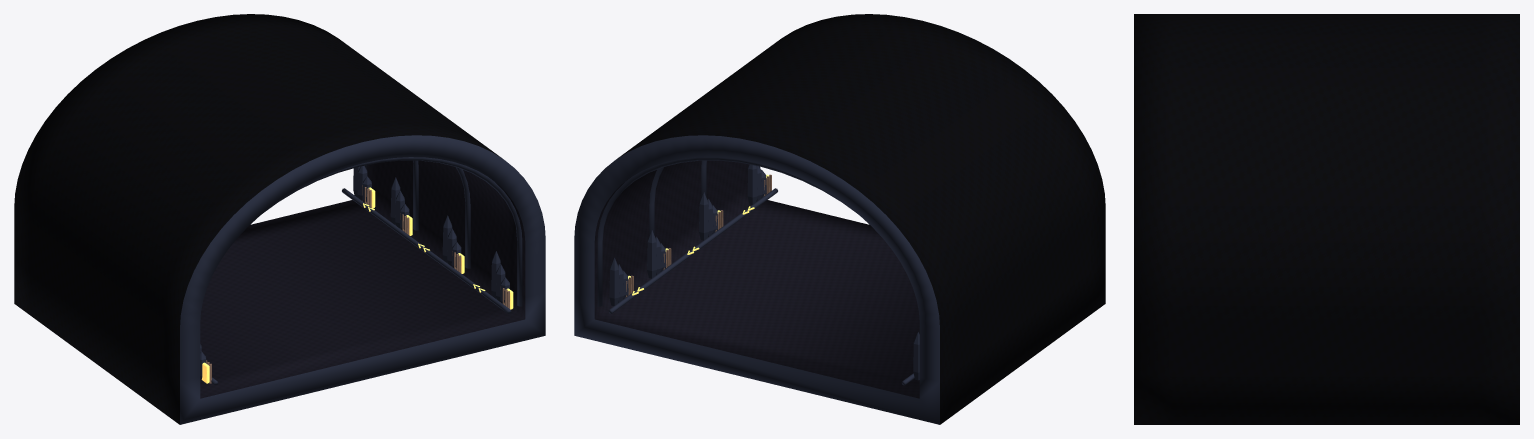
The model's file is straight_12m_lod1.glb.
The picture shows the model from 3 angles, left to right: view 1: azimuth 30°, elevation 25°; view 2: azimuth 150°, elevation 25°; view 3: azimuth 270°, elevation 25°; orthographic projection. The views are drawn at different scales.
Parts seen in each view (by area): view 1: TunnelGeometry.001; view 2: TunnelGeometry.001; view 3: TunnelGeometry.001.
Boxes of the visible parts, bbox=[...] form: TunnelGeometry.001: bbox=[14, 14, 545, 424]; TunnelGeometry.001: bbox=[574, 14, 1105, 424]; TunnelGeometry.001: bbox=[1134, 14, 1519, 424].
Bounding box in the file's own units: 15.3 × 9.52 × 12.
5 materials, 2 textured.
